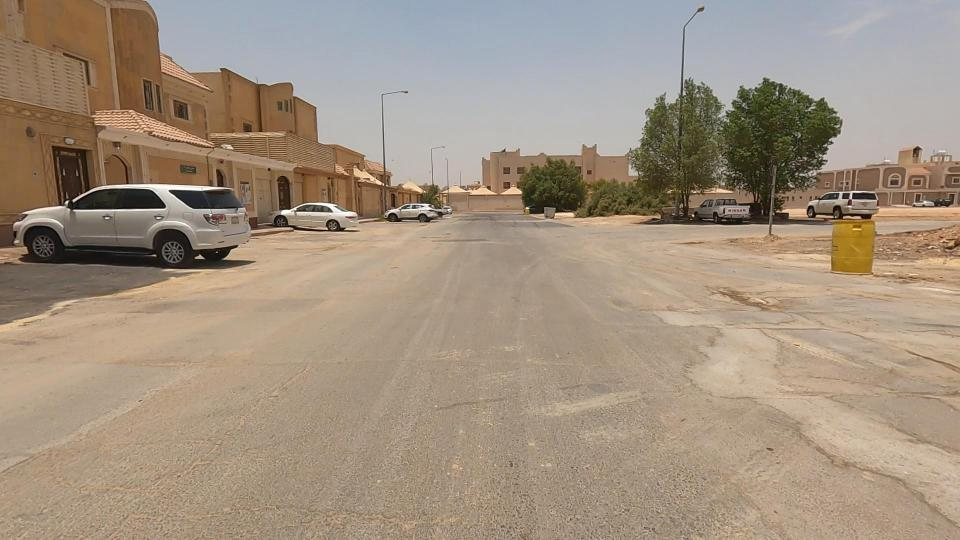POTHOLES: (656, 226, 825, 346)
